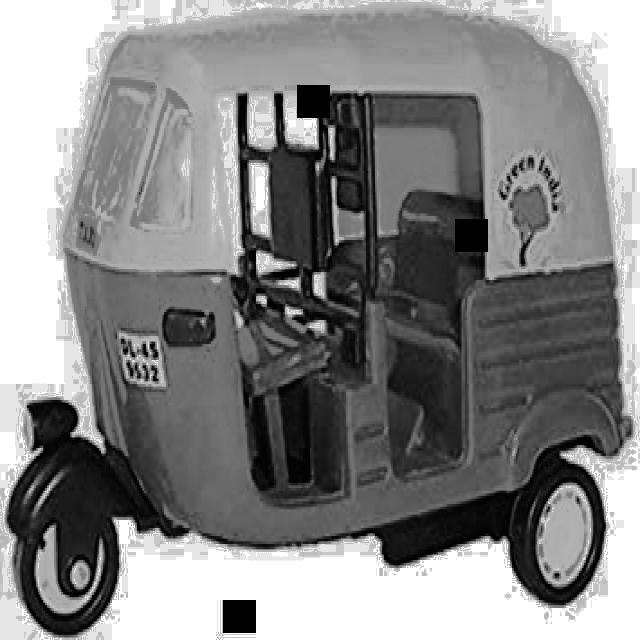Auto-Rickshaw: (50, 18, 623, 640)
